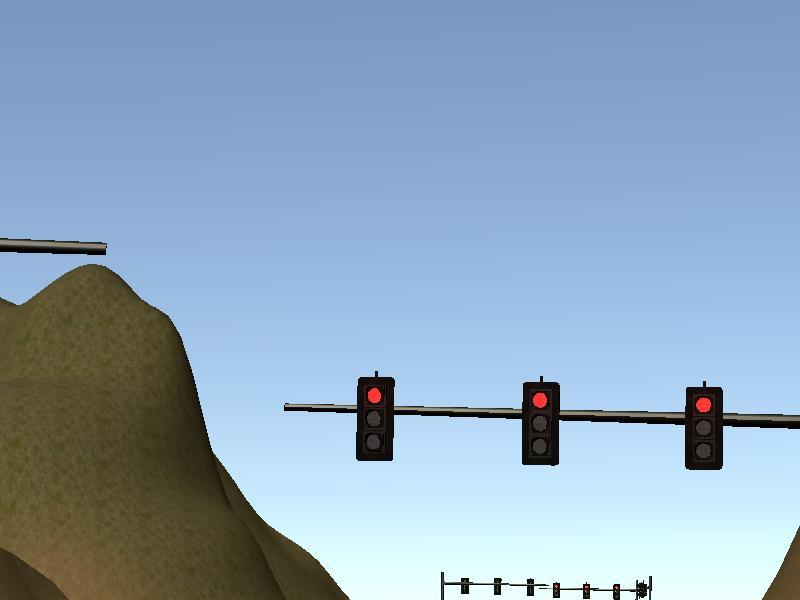Red: (356, 377, 393, 462), (685, 387, 722, 472), (522, 381, 559, 466), (551, 581, 561, 597), (582, 583, 590, 599), (612, 584, 619, 600)
